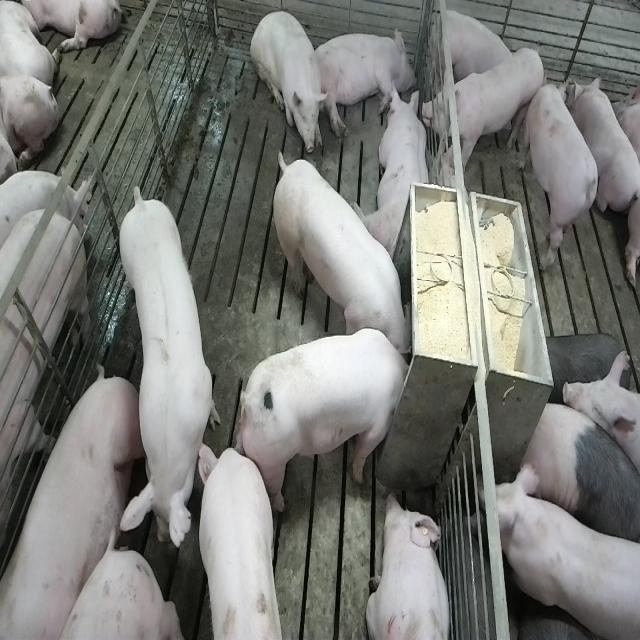Feeding: (243, 328, 419, 514), (268, 142, 411, 357)
Lateral_lying: (311, 23, 415, 138)
Sitting: (251, 8, 328, 158)
Standing: (0, 191, 90, 640), (115, 187, 219, 568), (494, 461, 638, 640), (522, 394, 638, 564), (202, 447, 289, 640), (421, 48, 547, 175), (525, 79, 602, 257)
Sternal_lying: (366, 490, 454, 640), (359, 85, 432, 264), (570, 72, 637, 217), (430, 5, 516, 92)
